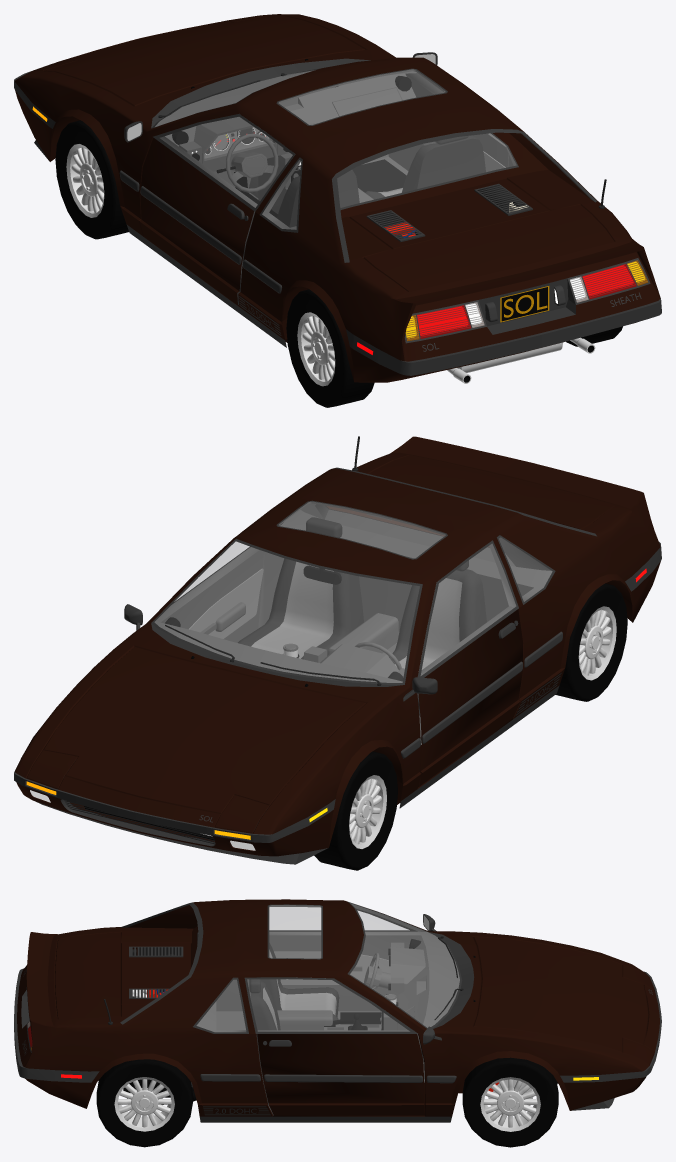
Rendered from carOld.glb.
The picture shows the model from 3 angles, top to bottom: view 1: azimuth 30°, elevation 25°; view 2: azimuth 150°, elevation 25°; view 3: azimuth 270°, elevation 25°; orthographic projection. The views are drawn at different scales.
Visible parts, largest first — view 1: Body, left_door, Hood, Trunk, Windows, back_wheels, Interior, left_wheel, Taillight Trim, Deck Lid, Rear Trim, Seats (+18 smaller); view 2: Body, Hood, Windows, left_door, Interior, Trunk, right_door, Seats, Seats Secondary, left_wheel, back_wheels, Sun Roof (+8 smaller); view 3: Body, right_door, Hood, Windows, right_wheel, back_wheels, left_door, Interior, Trunk, Side Trim, Deck Lid, Sun Roof (+14 smaller).
Part boxes in pixels (left/top/right/bottom): Body: left=15, top=14, right=660, bottom=382; left_door: left=139, top=114, right=295, bottom=306; Hood: left=43, top=15, right=364, bottom=106; Trunk: left=363, top=204, right=614, bottom=291; Windows: left=155, top=70, right=515, bottom=229; back_wheels: left=286, top=289, right=622, bottom=407; Interior: left=155, top=69, right=516, bottom=229; left_wheel: left=55, top=120, right=128, bottom=239; Taillight Trim: left=404, top=258, right=650, bottom=343; Deck Lid: left=349, top=179, right=549, bottom=249; Rear Trim: left=346, top=297, right=661, bottom=375; Seats: left=277, top=135, right=485, bottom=227; Body: left=15, top=436, right=660, bottom=856; Hood: left=43, top=647, right=365, bottom=813; Windows: left=155, top=506, right=551, bottom=682; left_door: left=417, top=540, right=523, bottom=788; Interior: left=154, top=501, right=552, bottom=682; Trunk: left=369, top=455, right=614, bottom=529; right_door: left=157, top=542, right=263, bottom=642; Seats: left=238, top=517, right=486, bottom=664; Seats Secondary: left=251, top=561, right=462, bottom=671; left_wheel: left=314, top=751, right=397, bottom=870; back_wheels: left=555, top=583, right=627, bottom=701; Sun Roof: left=279, top=502, right=445, bottom=558; Body: left=17, top=899, right=659, bottom=1116; right_door: left=244, top=977, right=425, bottom=1116; Hood: left=473, top=937, right=648, bottom=1052; Windows: left=197, top=904, right=459, bottom=1031; right_wheel: left=462, top=1057, right=558, bottom=1147; back_wheels: left=96, top=1059, right=192, bottom=1147; left_door: left=269, top=907, right=420, bottom=1011; Interior: left=196, top=903, right=459, bottom=1032; Trunk: left=55, top=932, right=120, bottom=1019; Side Trim: left=199, top=914, right=456, bottom=1122; Deck Lid: left=121, top=943, right=190, bottom=1004; Sun Roof: left=269, top=905, right=320, bottom=958.
Size of the model in its own units: 2.16 by 1.37 by 4.9.
